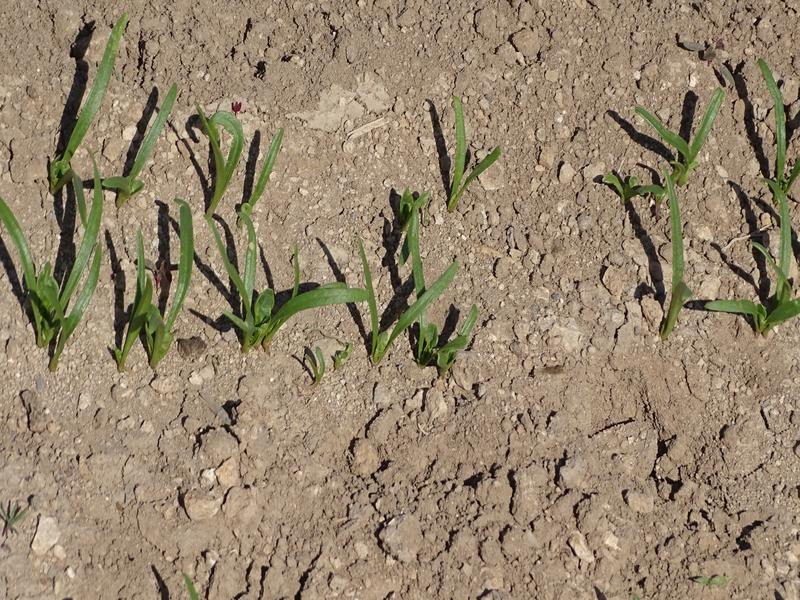Espinaca: (1, 18, 130, 342), (210, 216, 364, 348), (733, 64, 800, 331), (357, 239, 480, 363), (114, 210, 199, 357), (611, 177, 692, 327), (192, 110, 280, 206), (619, 96, 714, 170), (438, 106, 499, 210), (136, 82, 178, 179)
